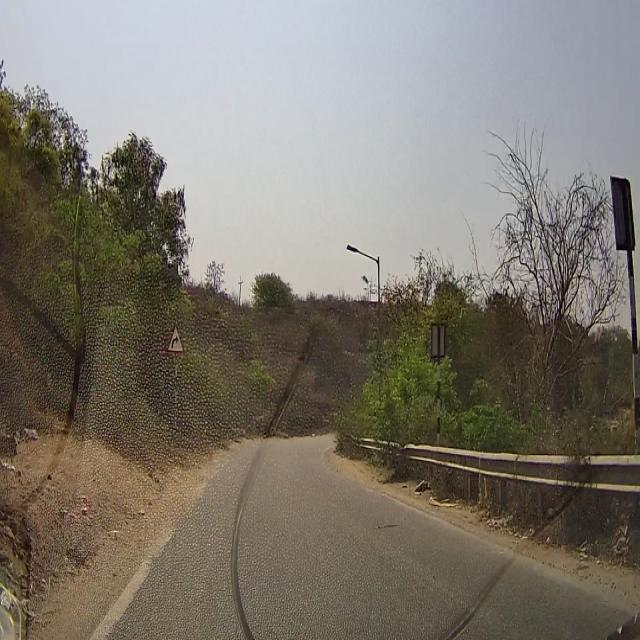right-hand-curve: (169, 324, 186, 363)
